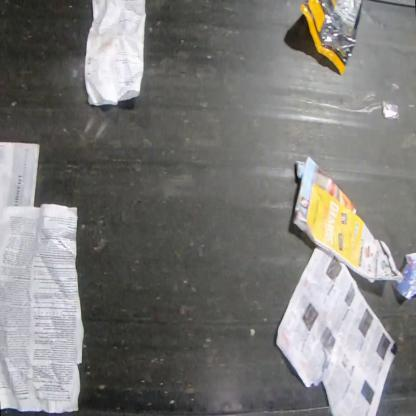cardboard: (290, 155, 404, 286)
soft_plastic: (299, 0, 363, 77), (390, 252, 415, 303)
